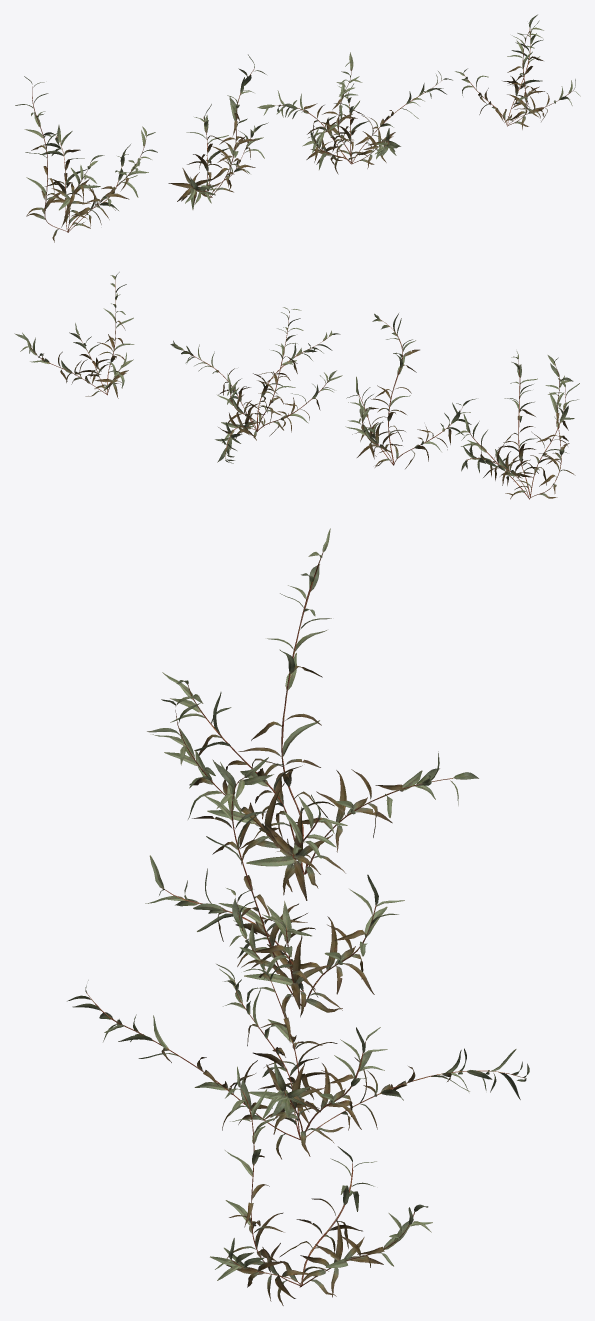
File: shrub_02.glb
3 renders of one model, top to bottom at view 1: azimuth 30°, elevation 25°; view 2: azimuth 150°, elevation 25°; view 3: azimuth 270°, elevation 25°, orthographic. The views are drawn at different scales.
Parts seen in each view (by area): view 1: shrub_02_c, shrub_02_a, shrub_02_b, shrub_02_d; view 2: shrub_02_a, shrub_02_c, shrub_02_b, shrub_02_d; view 3: shrub_02_a, shrub_02_c, shrub_02_b, shrub_02_d.
Boxes of the visible parts, x1,y1,x2,y2 form: shrub_02_c: [257, 52, 452, 174]; shrub_02_a: [15, 76, 157, 242]; shrub_02_b: [168, 54, 268, 209]; shrub_02_d: [455, 14, 580, 129]; shrub_02_a: [455, 351, 579, 499]; shrub_02_c: [170, 307, 342, 463]; shrub_02_b: [345, 313, 476, 468]; shrub_02_d: [14, 272, 134, 398]; shrub_02_a: [147, 528, 478, 900]; shrub_02_c: [67, 888, 529, 1159]; shrub_02_b: [145, 757, 404, 1018]; shrub_02_d: [210, 1066, 432, 1305].
Bounding box in the file's own units: 6.05 × 1.7 × 2.29.
Materials: 1 (1 with a texture image).
